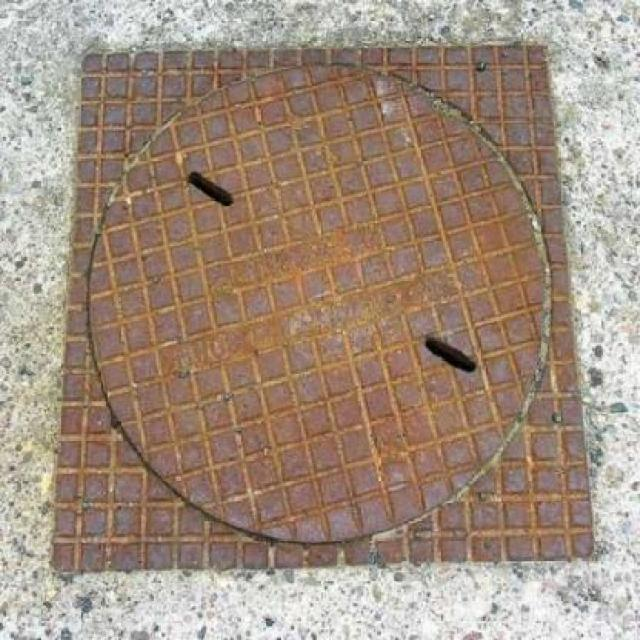Manhole: (47, 39, 606, 590)
